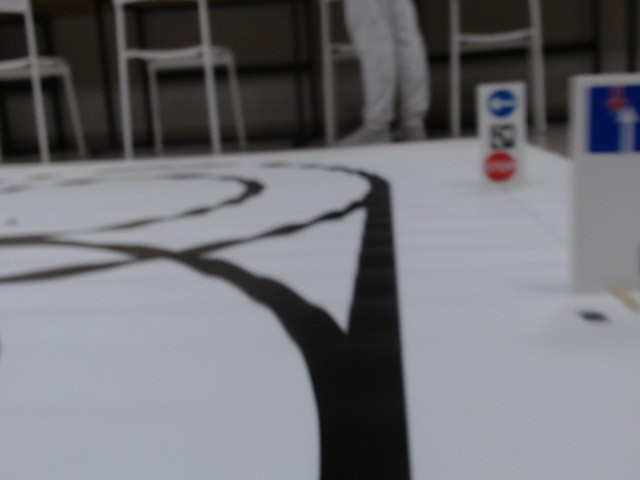Stop: (481, 152, 516, 182)
priority_movement: (586, 83, 640, 153)
